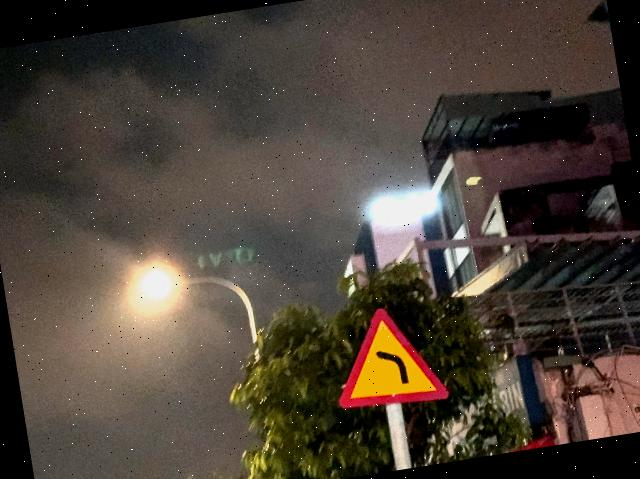cho-ngoat-nguy-hiem-ben-trai: (323, 298, 450, 416)
